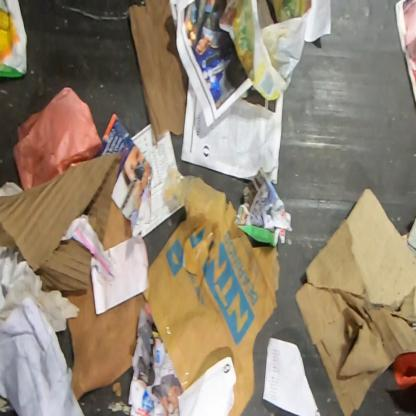cardboard: (148, 166, 280, 416), (294, 185, 415, 415), (0, 148, 132, 291), (62, 269, 144, 403), (128, 1, 190, 141)
soft_plastic: (11, 85, 102, 191), (219, 1, 312, 102), (0, 0, 28, 77)
